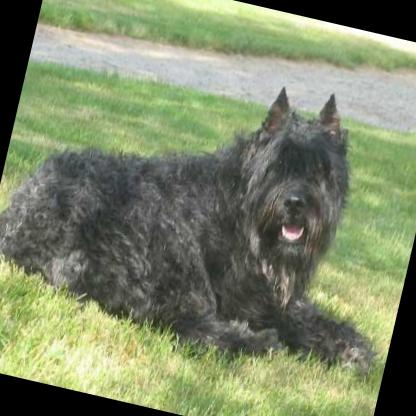Bouvier_des_Flandres: (0, 24, 416, 402)
